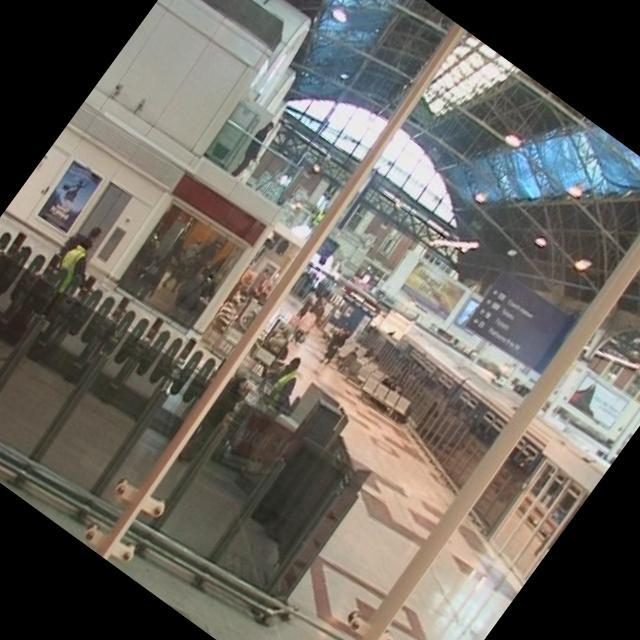person: (44, 224, 110, 292), (254, 342, 318, 408), (284, 299, 328, 348)
